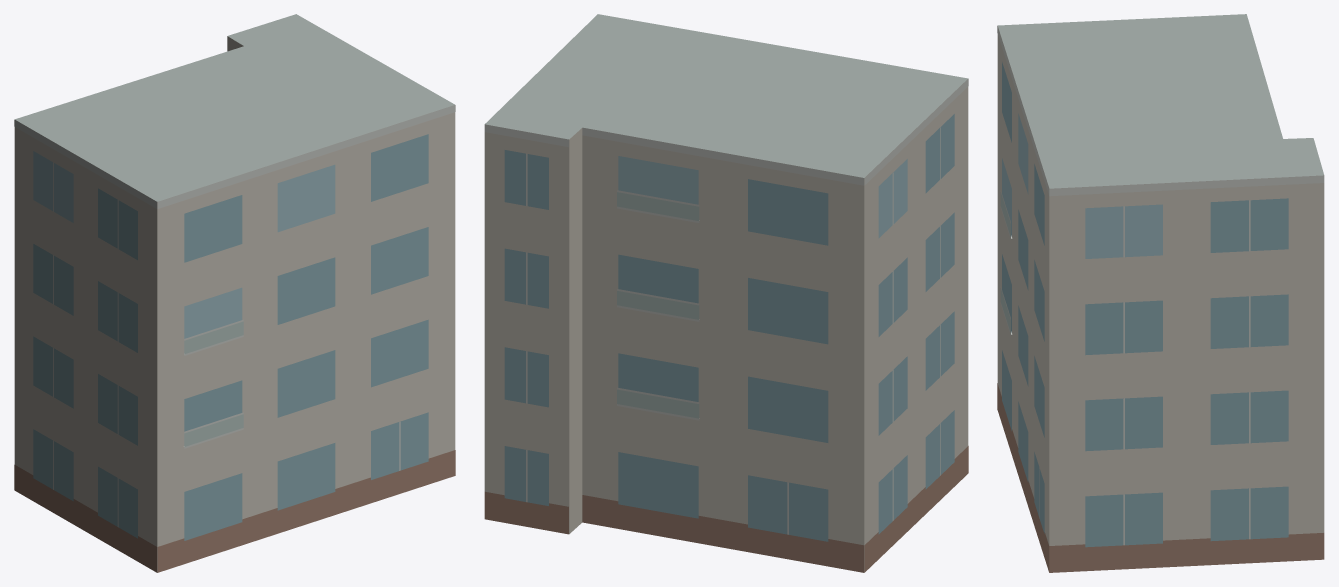
Rendered from survey-upis-32746771.glb.
3 views of the same model, side by side, from view 1: azimuth 30°, elevation 25°; view 2: azimuth 150°, elevation 25°; view 3: azimuth 270°, elevation 25° (orthographic). The views are drawn at different scales.
Visible parts, largest first — view 1: survey-upis-32746771.tmp; view 2: survey-upis-32746771.tmp; view 3: survey-upis-32746771.tmp.
Boxes of the visible parts, x1,y1,x2,y2 form: survey-upis-32746771.tmp: (14, 14, 455, 572); survey-upis-32746771.tmp: (484, 14, 968, 572); survey-upis-32746771.tmp: (997, 14, 1324, 572).
Size of the model in its own units: 12.1 by 12.4 by 9.57.
